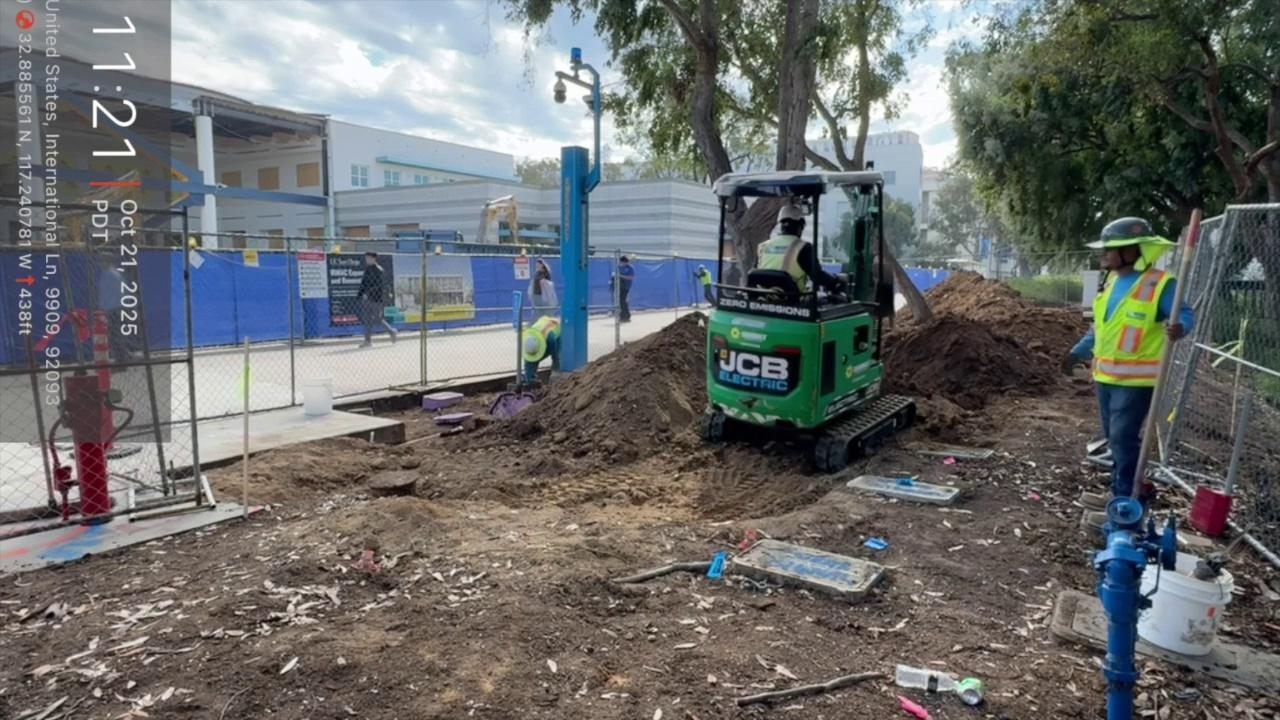Exacavator: (692, 161, 918, 474)
